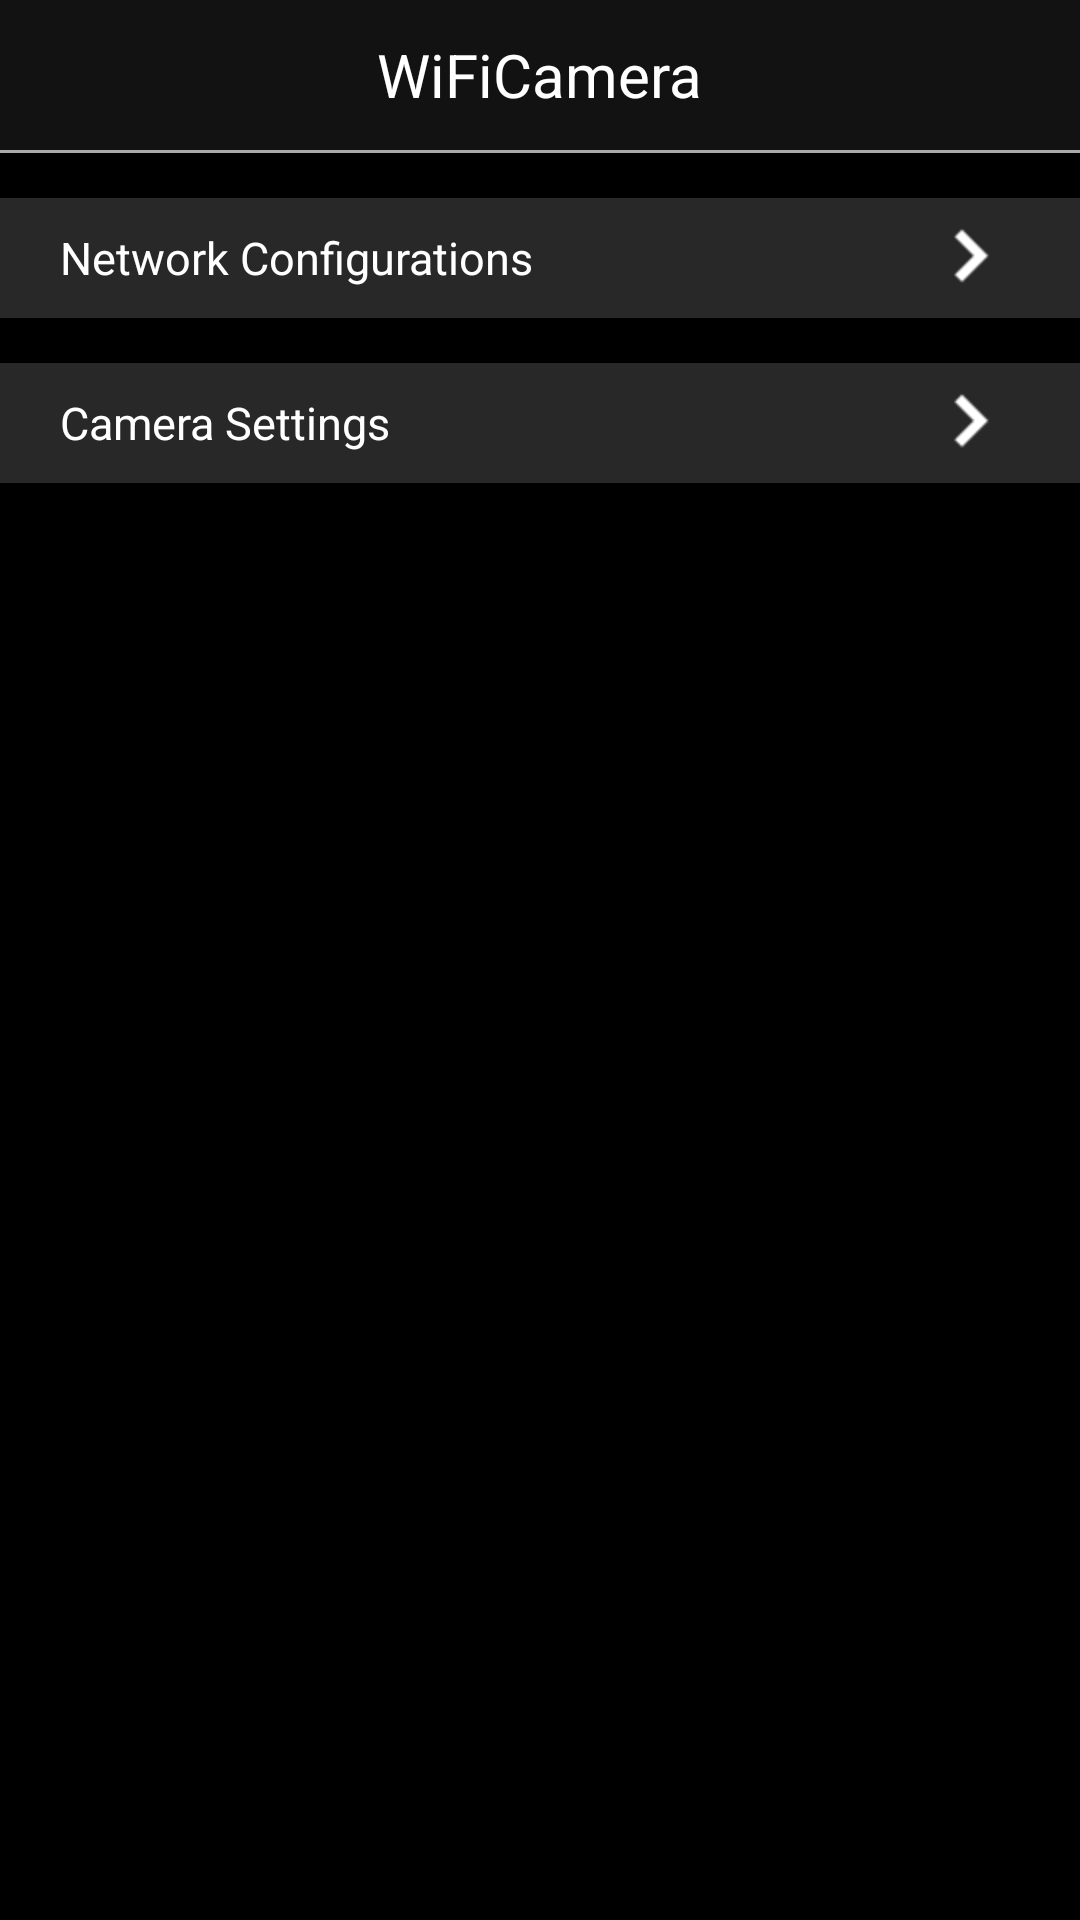

Named icons in this screenshot (1080px×1920px) and their bounding boxes, bbox=(x1, y1, x2, y2):
right in: bbox=(954, 229, 989, 282), bbox=(954, 394, 989, 447)
